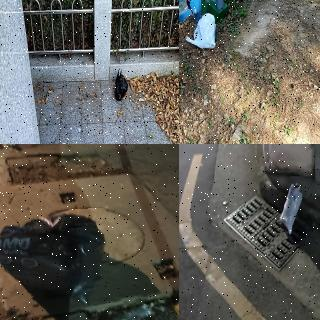Garbage: (0, 209, 108, 298), (277, 177, 306, 239), (184, 14, 220, 54), (113, 66, 129, 101)
